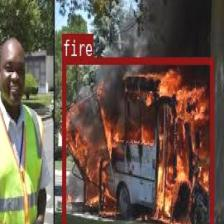fire: (62, 57, 213, 224)
